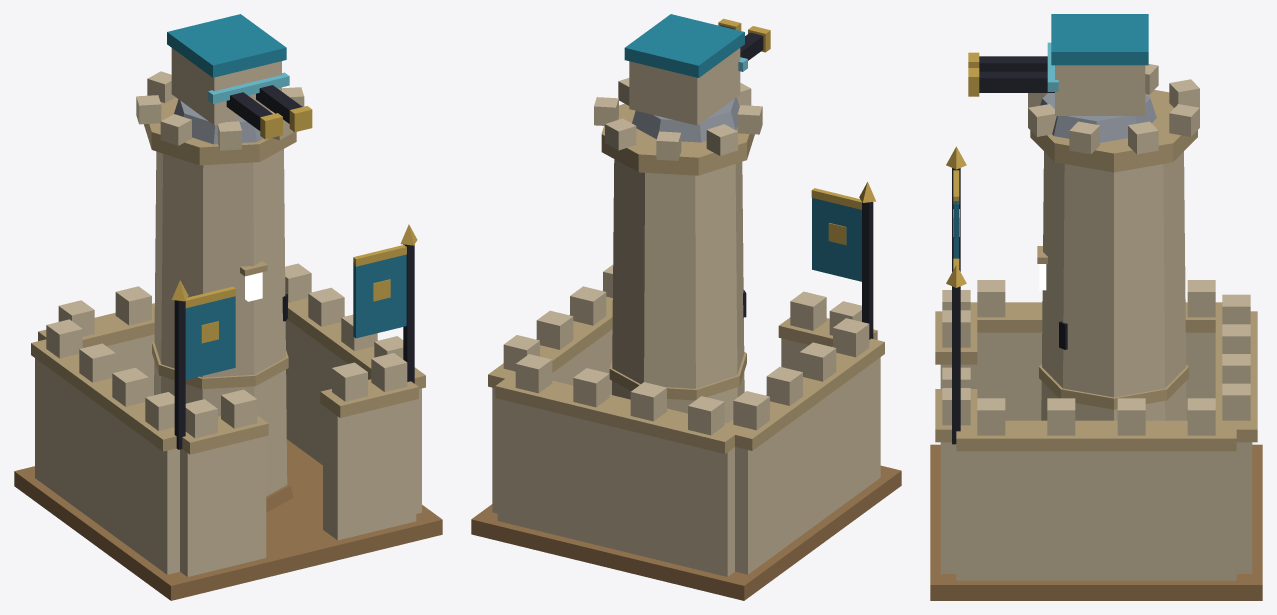
Rendered from outpost_t4.glb.
3 renders of one model, left to right at view 1: azimuth 30°, elevation 25°; view 2: azimuth 150°, elevation 25°; view 3: azimuth 270°, elevation 25°, orthographic. The views are drawn at different scales.
Parts seen in each view (by area): view 1: body, part_turret; view 2: body, part_turret; view 3: body, part_turret.
Part boxes in pixels (x1,y1,x2,y2): body: (14,71,442,600); part_turret: (167,14,312,144); body: (471,78,901,600); part_turret: (624,14,770,142); body: (930,64,1262,600); part_turret: (968,14,1156,142).
Size of the model in its own units: 1.9 by 3.14 by 1.9.
